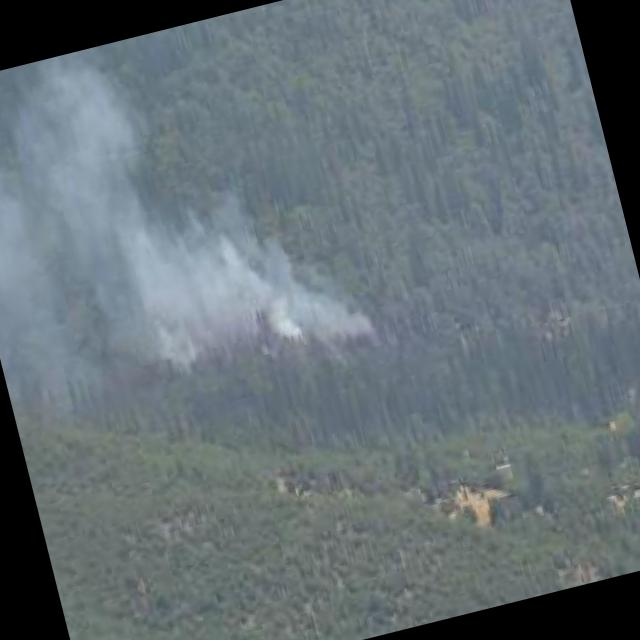smoke: (0, 25, 396, 448)
